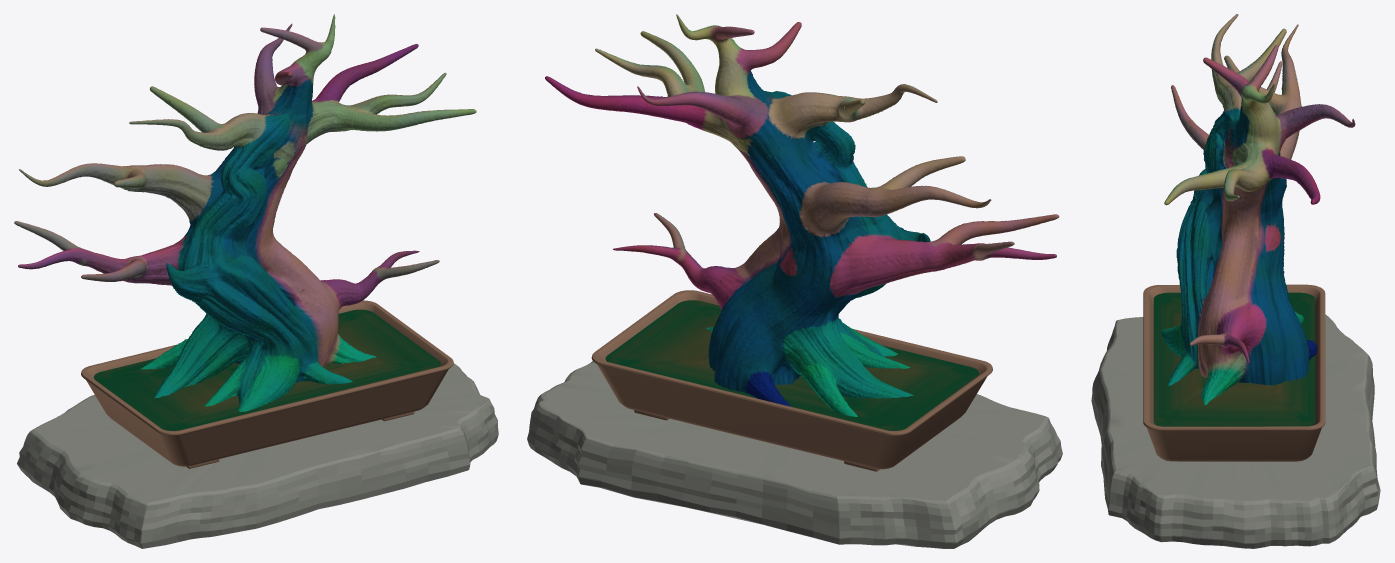
Rendered from hero-v11.glb.
3 views of the same model, side by side, from view 1: azimuth 30°, elevation 25°; view 2: azimuth 150°, elevation 25°; view 3: azimuth 270°, elevation 25° (orthographic). The views are drawn at different scales.
Parts seen in each view (by area): view 1: Continuous aged trunk and primary branches, Low split natural bedding stone, Shallow unglazed pot, Continuous planted soil; view 2: Continuous aged trunk and primary branches, Low split natural bedding stone, Shallow unglazed pot, Continuous planted soil; view 3: Continuous aged trunk and primary branches, Low split natural bedding stone, Continuous planted soil, Shallow unglazed pot.
Boxes of the visible parts, x1,y1,x2,y2 form: Continuous aged trunk and primary branches: [14, 14, 476, 411]; Low split natural bedding stone: [17, 363, 498, 548]; Shallow unglazed pot: [81, 300, 453, 466]; Continuous planted soil: [93, 309, 440, 430]; Continuous aged trunk and primary branches: [545, 14, 1059, 416]; Low split natural bedding stone: [527, 361, 1062, 548]; Shallow unglazed pot: [591, 290, 992, 469]; Continuous planted soil: [605, 300, 978, 430]; Continuous aged trunk and primary branches: [1161, 14, 1355, 404]; Low split natural bedding stone: [1091, 314, 1380, 548]; Continuous planted soil: [1153, 292, 1315, 426]; Shallow unglazed pot: [1143, 284, 1325, 461].
Size of the model in its own units: 2.48 by 2.15 by 1.36.
